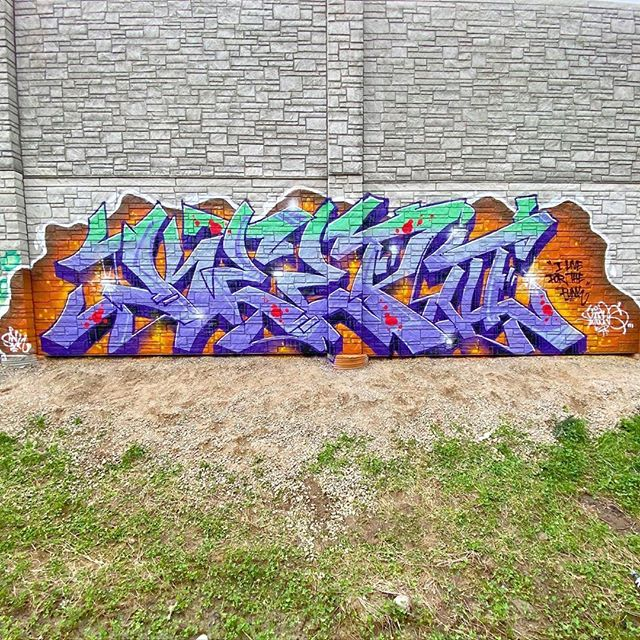graffiti: (8, 189, 640, 361)
